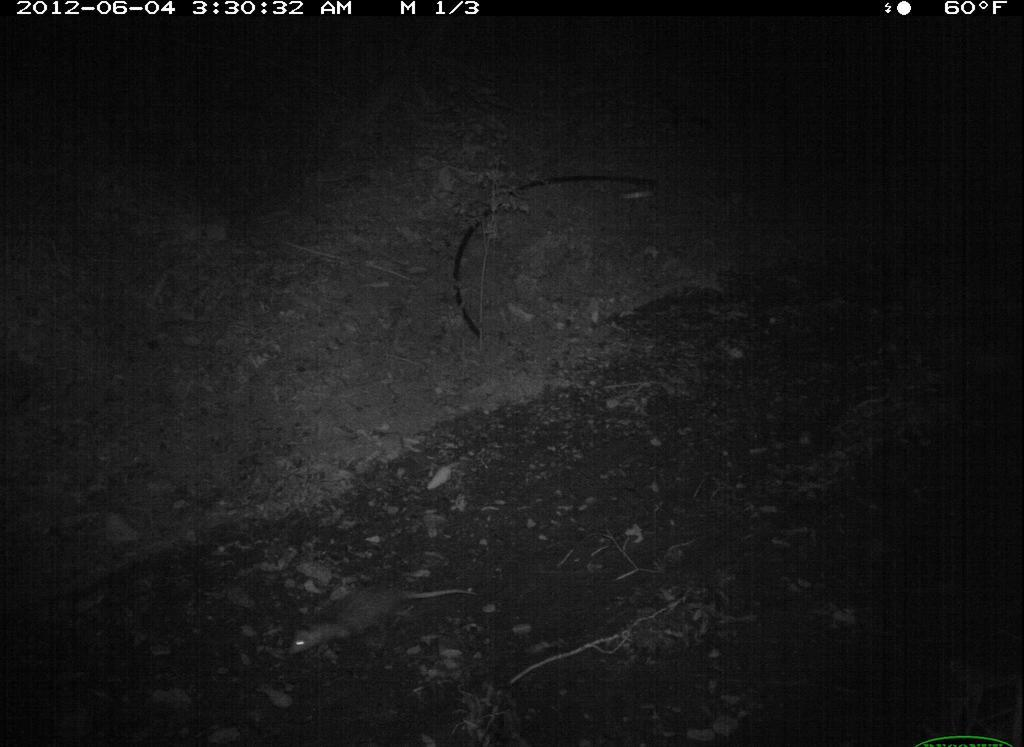opossum: (287, 573, 479, 676)
